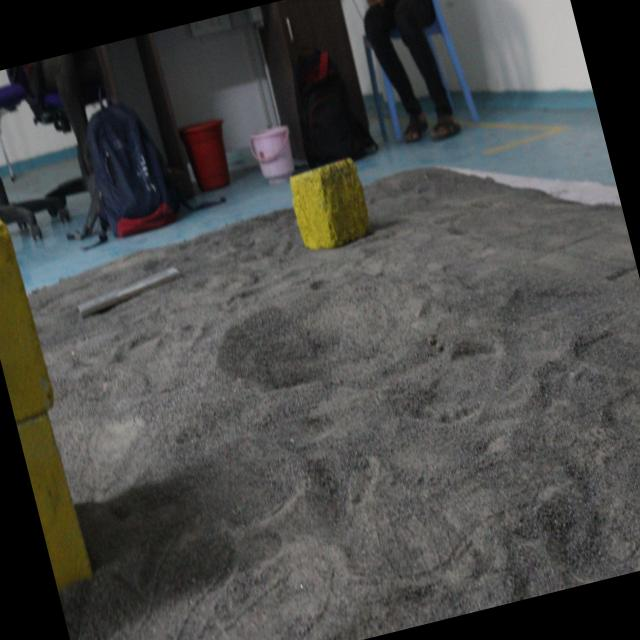box: (281, 150, 385, 262)
crater: (183, 252, 450, 436)
